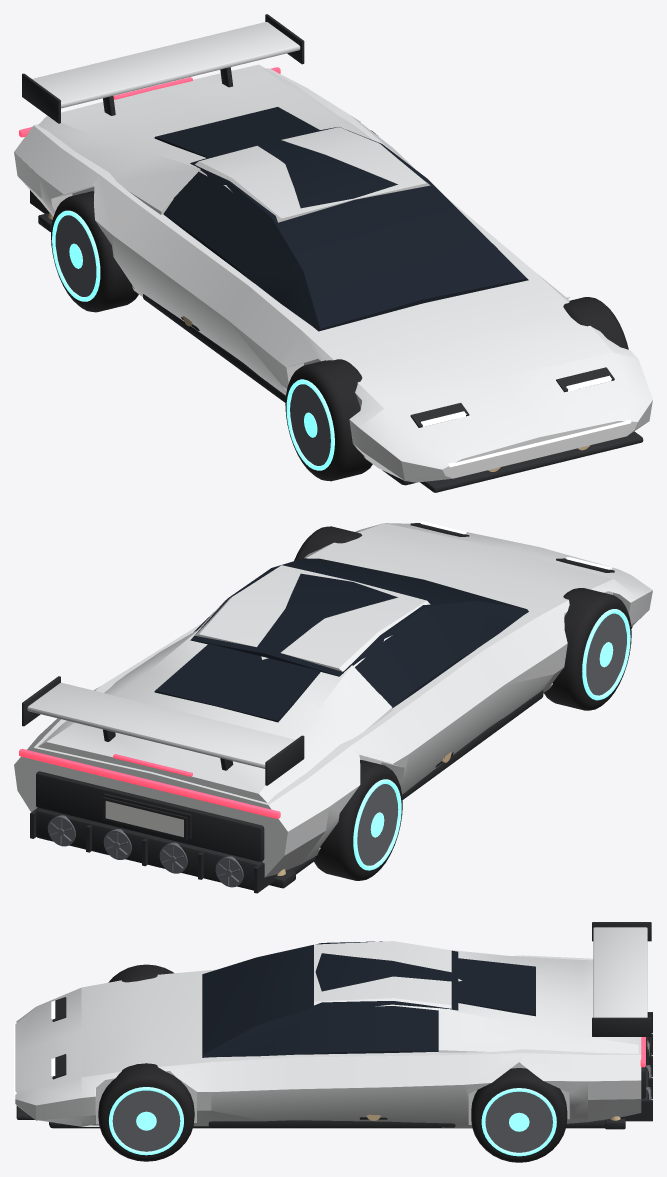
Rendered from roadster.glb.
3 views of the same model, one above another, from view 1: azimuth 30°, elevation 25°; view 2: azimuth 150°, elevation 25°; view 3: azimuth 270°, elevation 25° (orthographic). The views are drawn at different scales.
Visible parts, largest first — view 1: Body, Canopy, Fastback, Wing, RoofPanel, Tire_FL, RearGlass, Tire_RL, Splitter, Rim_RL, Rim_FL, Tire_FR (+5 smaller); view 2: Body, Canopy, Fastback, RoofPanel, Wing, RearGlass, TailPanel, Tire_FL, Diffuser, Tire_RL, LightRear, Rim_RL (+12 smaller); view 3: Body, Canopy, Fastback, RoofPanel, Wing, RearGlass, Tire_FR, Tire_RR, Rim_FR, Rim_RR, Sill1, WingEndplate1 (+6 smaller).
Part boxes in pixels (box(x1,y1,x2,y2)): Body: box(14, 68, 652, 482); Canopy: box(163, 127, 528, 331); Fastback: box(38, 64, 372, 214); Wing: box(32, 22, 300, 108); RoofPanel: box(195, 127, 430, 222); Tire_FL: box(285, 359, 372, 481); RearGlass: box(154, 107, 319, 157); Tire_RL: box(51, 191, 138, 312); Splitter: box(420, 431, 643, 492); Rim_RL: box(55, 215, 96, 296); Rim_FL: box(290, 384, 330, 465); Tire_FR: box(563, 297, 628, 349); Body: box(14, 523, 652, 877); Canopy: box(190, 558, 528, 708); Fastback: box(38, 628, 392, 802); RoofPanel: box(194, 565, 430, 672); Wing: box(27, 682, 295, 768); RearGlass: box(154, 643, 320, 722); TailPanel: box(36, 771, 264, 861); Tire_FL: box(544, 588, 631, 710); Diffuser: box(36, 808, 262, 890); Tire_RL: box(314, 760, 402, 880); LightRear: box(19, 749, 280, 818); Rim_RL: box(357, 784, 398, 865); Body: box(15, 955, 641, 1127); Canopy: box(202, 941, 458, 1057); Fastback: box(438, 949, 638, 1053); RoofPanel: box(314, 941, 451, 1010); Wing: box(593, 927, 647, 1017); RearGlass: box(458, 958, 535, 1016); Tire_FR: box(98, 1063, 194, 1161); Tire_RR: box(471, 1068, 567, 1162); Rim_FR: box(112, 1090, 180, 1151); Rim_RR: box(485, 1091, 552, 1152); Sill1: box(208, 1120, 455, 1127); WingEndplate1: box(592, 1017, 651, 1036).
Bounding box in the file's own units: 2.18 × 1.18 × 4.92.
